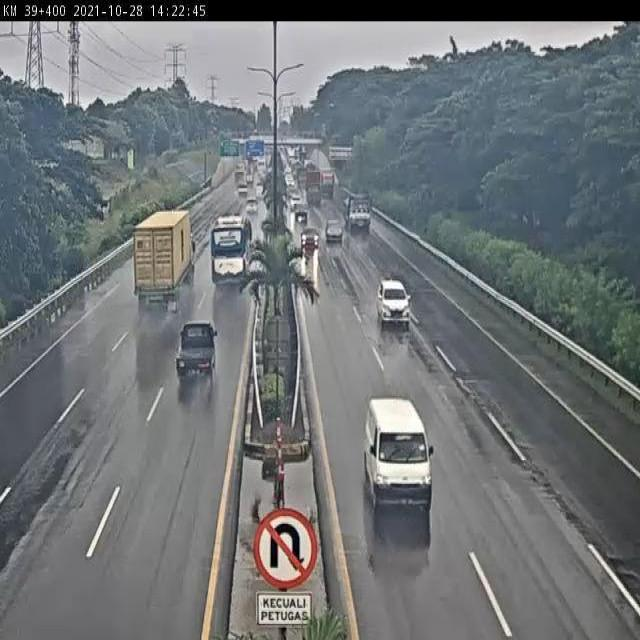bus-l-: (211, 214, 255, 290)
car: (175, 320, 218, 383)
truck-xl-: (133, 210, 196, 310)
